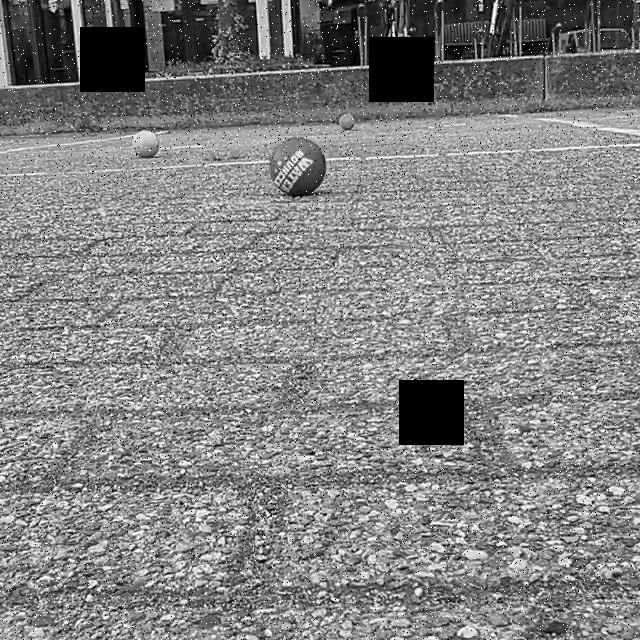ball: (128, 128, 160, 161), (336, 109, 356, 135)
